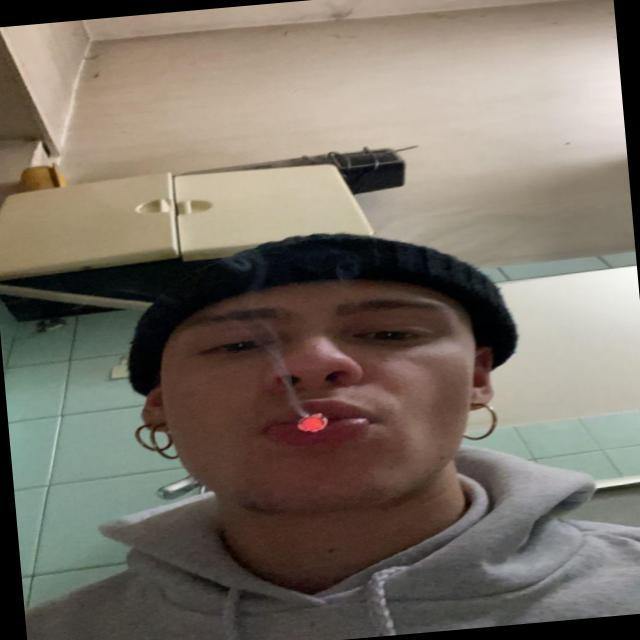cigarette: (294, 406, 333, 442)
